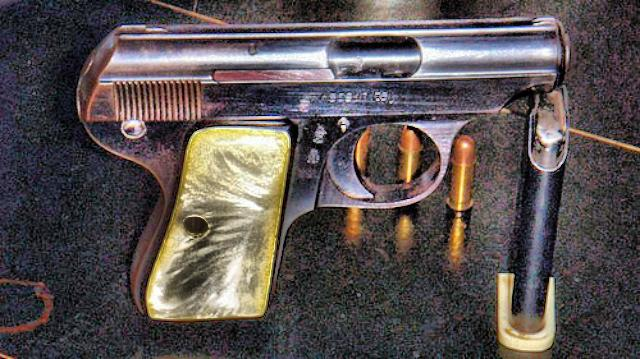pistol: (83, 16, 569, 314)
